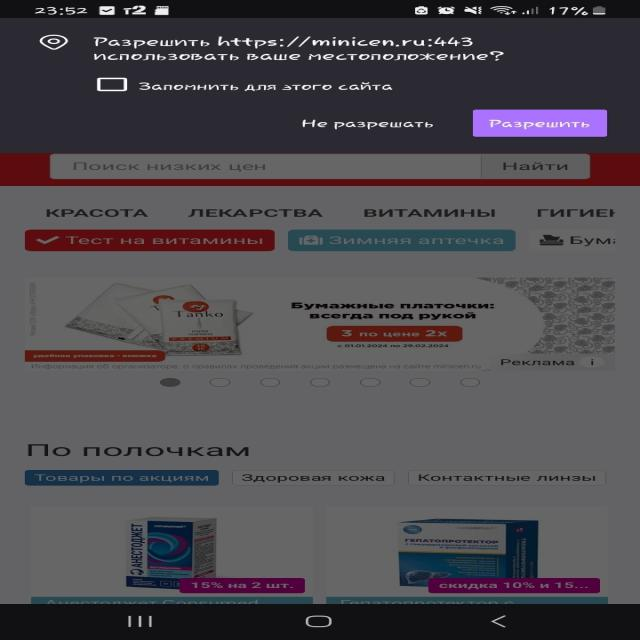button: (293, 110, 447, 139), (475, 110, 609, 137)
system: (2, 18, 640, 151)
